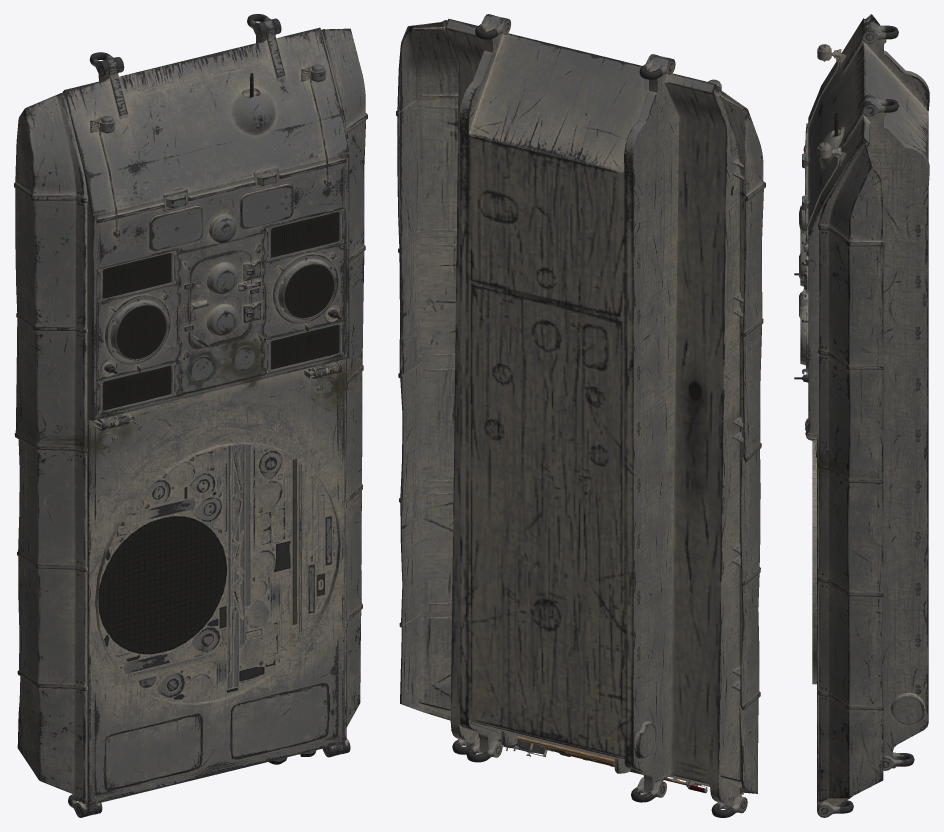
Rendered from Hull.glb.
3 renders of one model, left to right at view 1: azimuth 30°, elevation 25°; view 2: azimuth 150°, elevation 25°; view 3: azimuth 270°, elevation 25°, orthographic. The views are drawn at different scales.
Visible parts, largest first — view 1: set_0_group_0; view 2: set_0_group_0; view 3: set_0_group_0.
Boxes of the visible parts, x1,y1,x2,y2 form: set_0_group_0: [14, 14, 367, 817]; set_0_group_0: [396, 14, 765, 817]; set_0_group_0: [794, 14, 929, 817].
Bounding box in the file's own units: 4.14 × 8.57 × 1.51.
1 material, 1 textured.
